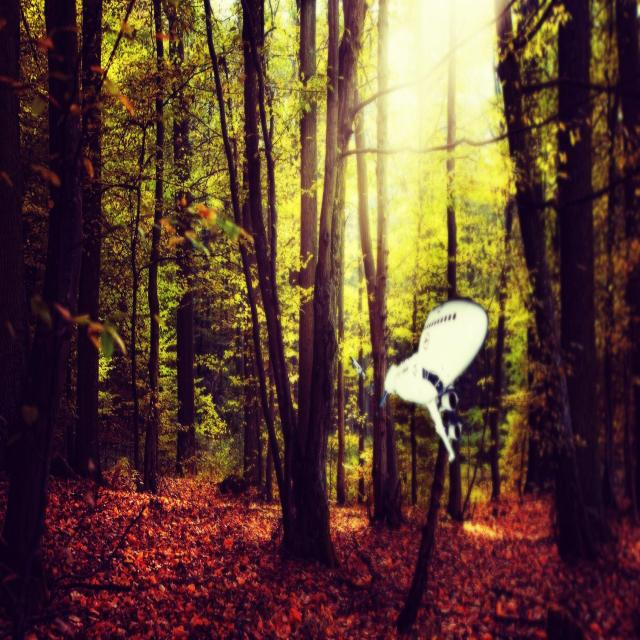airplane: (349, 296, 489, 463)
